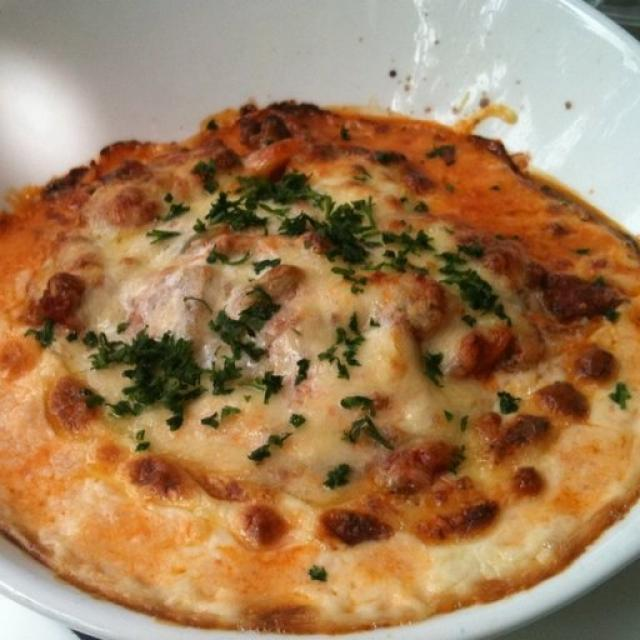Lasagna: (17, 114, 632, 613)
